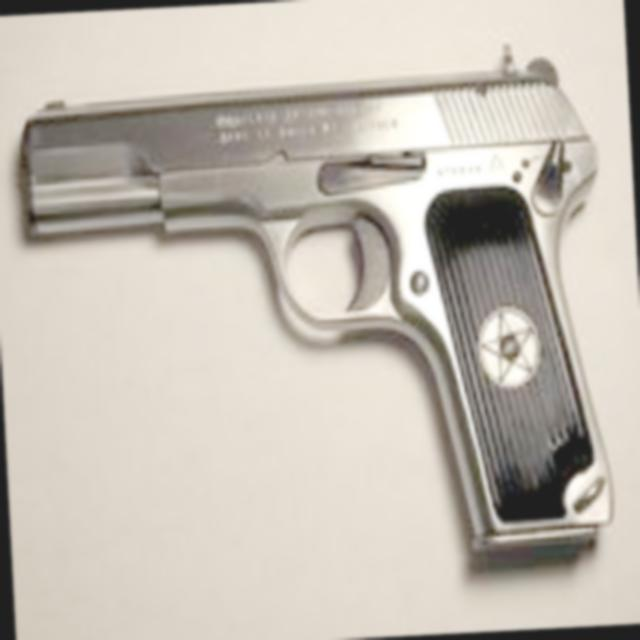semi automatic: (7, 35, 632, 606)
